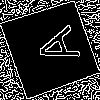A: (25, 23, 81, 71)
